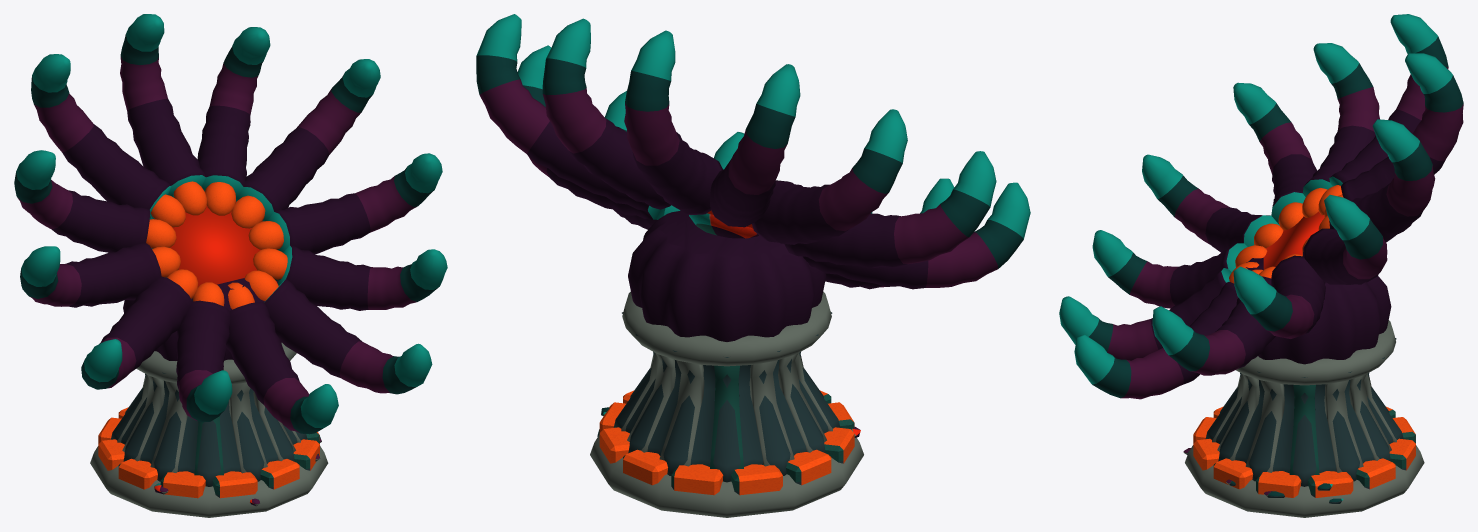
Rendered from AnemoneOpen.obj.
3 views of the same model, side by side, from view 1: azimuth 30°, elevation 25°; view 2: azimuth 150°, elevation 25°; view 3: azimuth 270°, elevation 25° (orthographic). The views are drawn at different scales.
Visible parts, largest first — view 1: PedestalRecess_Export, Tentacle_05_Export, Tentacle_11_Export, Tentacle_02_Export, Tentacle_04_Export, Tentacle_01_Export, Tentacle_12_Export, Tentacle_10_Export, Tentacle_06_Export, Tentacle_03_Export, Tentacle_07_Export, Tentacle_08_Export (+26 smaller); view 2: OrganicMantle_Export, PedestalRecess_Export, Tentacle_07_Export, Tentacle_04_Export, Tentacle_06_Export, Tentacle_03_Export, Tentacle_02_Export, Tentacle_05_Export, Tentacle_08_Export, StoneFoot_Export, UpperStoneLip_Export, Tentacle_01_Export (+14 smaller); view 3: PedestalRecess_Export, OrganicMantle_Export, Tentacle_11_Export, Tentacle_04_Export, Tentacle_12_Export, Tentacle_03_Export, Tentacle_01_Export, Tentacle_09_Export, Tentacle_06_Export, StoneFoot_Export, Tentacle_02_Export, Tentacle_08_Export (+18 smaller).
Part boxes in pixels (bbox=[...]): PedestalRecess_Export: bbox=[111, 358, 307, 486]; Tentacle_05_Export: bbox=[31, 54, 171, 219]; Tentacle_11_Export: bbox=[264, 279, 432, 394]; Tentacle_02_Export: bbox=[236, 59, 380, 221]; Tentacle_04_Export: bbox=[120, 14, 205, 196]; Tentacle_01_Export: bbox=[267, 153, 442, 254]; Tentacle_12_Export: bbox=[278, 245, 447, 310]; Tentacle_10_Export: bbox=[226, 301, 338, 434]; Tentacle_06_Export: bbox=[14, 150, 149, 252]; Tentacle_03_Export: bbox=[197, 27, 270, 198]; Tentacle_07_Export: bbox=[20, 243, 161, 307]; Tentacle_08_Export: bbox=[81, 276, 192, 389]; OrganicMantle_Export: bbox=[628, 210, 826, 341]; PedestalRecess_Export: bbox=[613, 312, 840, 482]; Tentacle_07_Export: bbox=[784, 151, 996, 267]; Tentacle_04_Export: bbox=[624, 30, 722, 214]; Tentacle_06_Export: bbox=[752, 109, 907, 244]; Tentacle_03_Export: bbox=[542, 18, 670, 209]; Tentacle_02_Export: bbox=[476, 14, 649, 211]; Tentacle_05_Export: bbox=[710, 64, 800, 227]; Tentacle_08_Export: bbox=[803, 182, 1030, 289]; StoneFoot_Export: bbox=[590, 434, 863, 517]; UpperStoneLip_Export: bbox=[622, 291, 831, 366]; Tentacle_01_Export: bbox=[517, 45, 665, 219]; PedestalRecess_Export: bbox=[1205, 338, 1403, 486]; OrganicMantle_Export: bbox=[1246, 257, 1391, 364]; Tentacle_11_Export: bbox=[1074, 281, 1238, 399]; Tentacle_04_Export: bbox=[1341, 53, 1463, 200]; Tentacle_12_Export: bbox=[1152, 276, 1275, 375]; Tentacle_03_Export: bbox=[1329, 119, 1435, 242]; Tentacle_01_Export: bbox=[1233, 255, 1325, 338]; Tentacle_09_Export: bbox=[1092, 230, 1247, 308]; Tentacle_06_Export: bbox=[1303, 43, 1379, 196]; StoneFoot_Export: bbox=[1185, 445, 1424, 517]; Tentacle_02_Export: bbox=[1303, 194, 1387, 284]; Tentacle_08_Export: bbox=[1142, 154, 1279, 252].
Bounding box in the file's own units: 7.13 × 6.81 × 6.
Materials: 1 (1 with a texture image).
